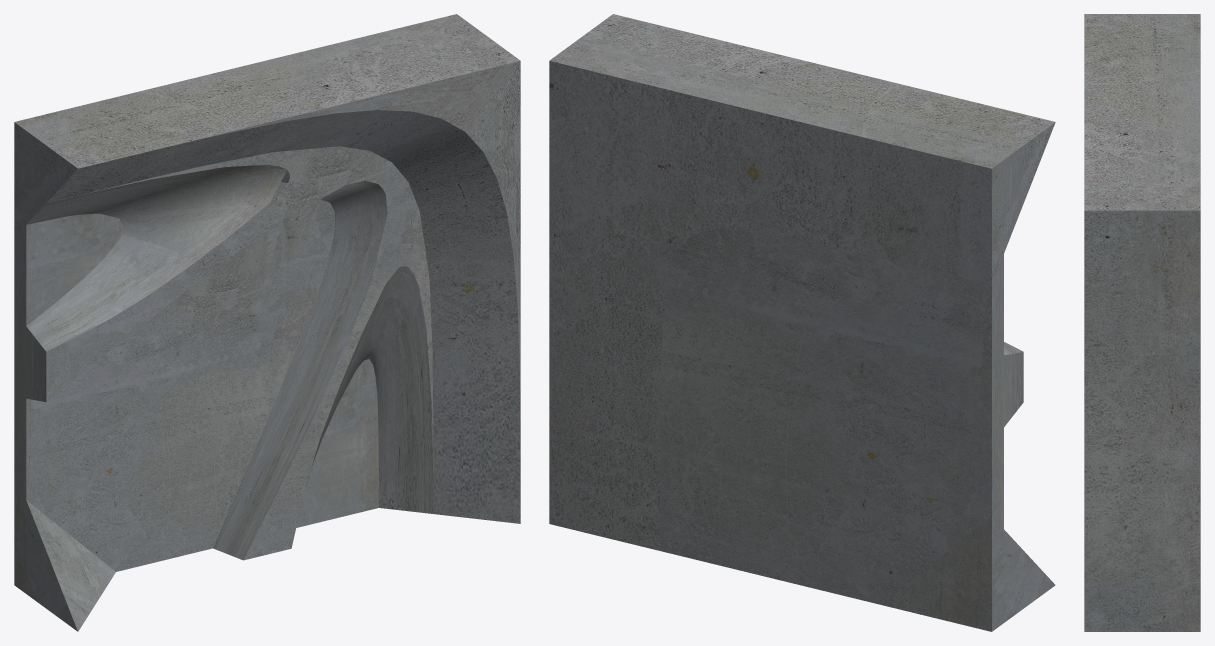
File: module_U5.fbx
The picture shows the model from 3 angles, left to right: view 1: azimuth 30°, elevation 25°; view 2: azimuth 150°, elevation 25°; view 3: azimuth 270°, elevation 25°; orthographic projection. The views are drawn at different scales.
Visible parts, largest first — view 1: modules; view 2: modules; view 3: modules.
Part boxes in pixels (bbox=[...]): modules: bbox=[14, 14, 520, 631]; modules: bbox=[549, 14, 1055, 631]; modules: bbox=[1084, 14, 1200, 631].
Bounding box in the file's own units: 1000 × 250 × 1000.
1 material, 1 textured.
